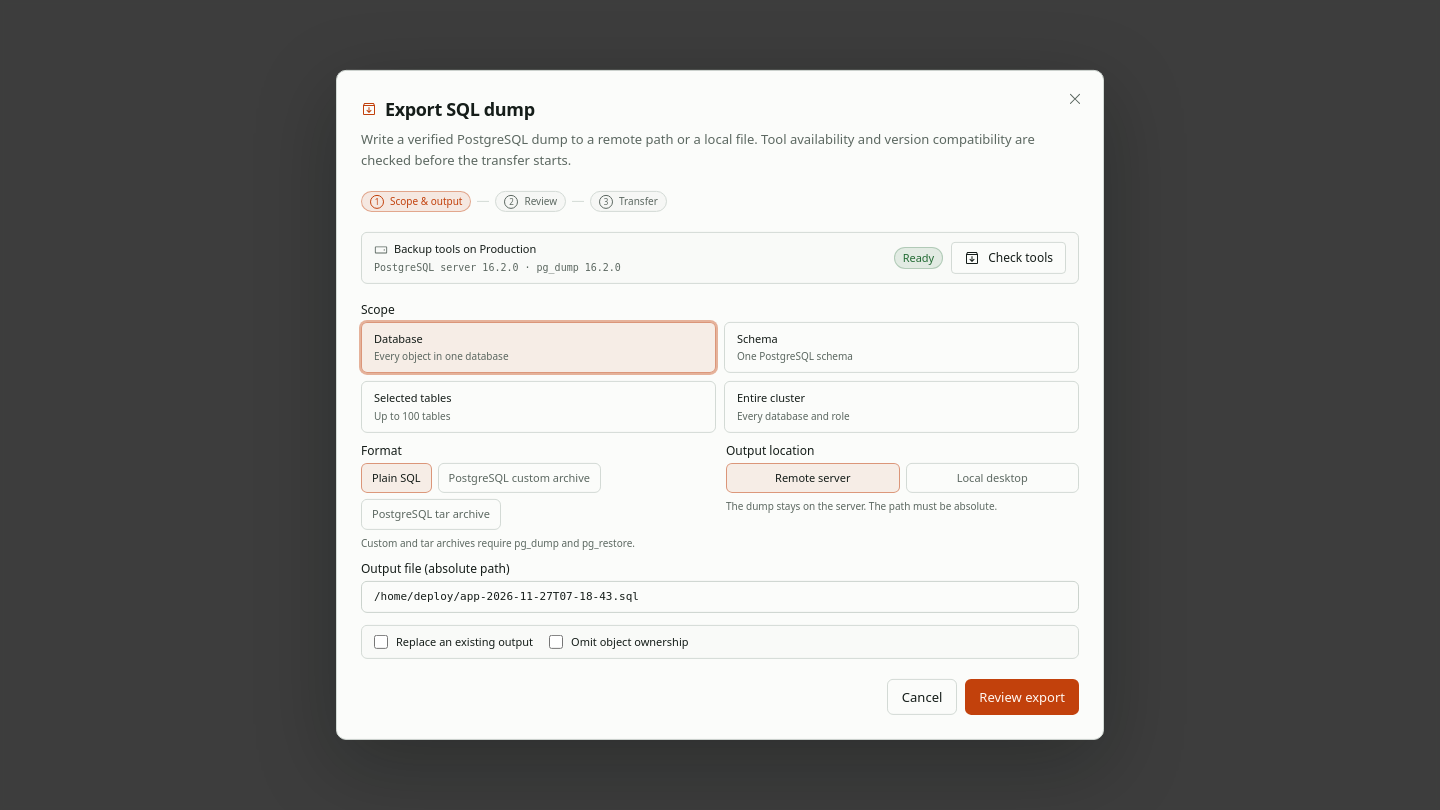
Test: DatabaseDumpTransferDialog › retries a failed dump export after the backend rejects it
The image size is (1440, 810).
Replace the text in the field labelled "Output file (absolute path)" with "/home/deploy/backups/app.sql" at (720, 597), box 361,581 -> 1079,613
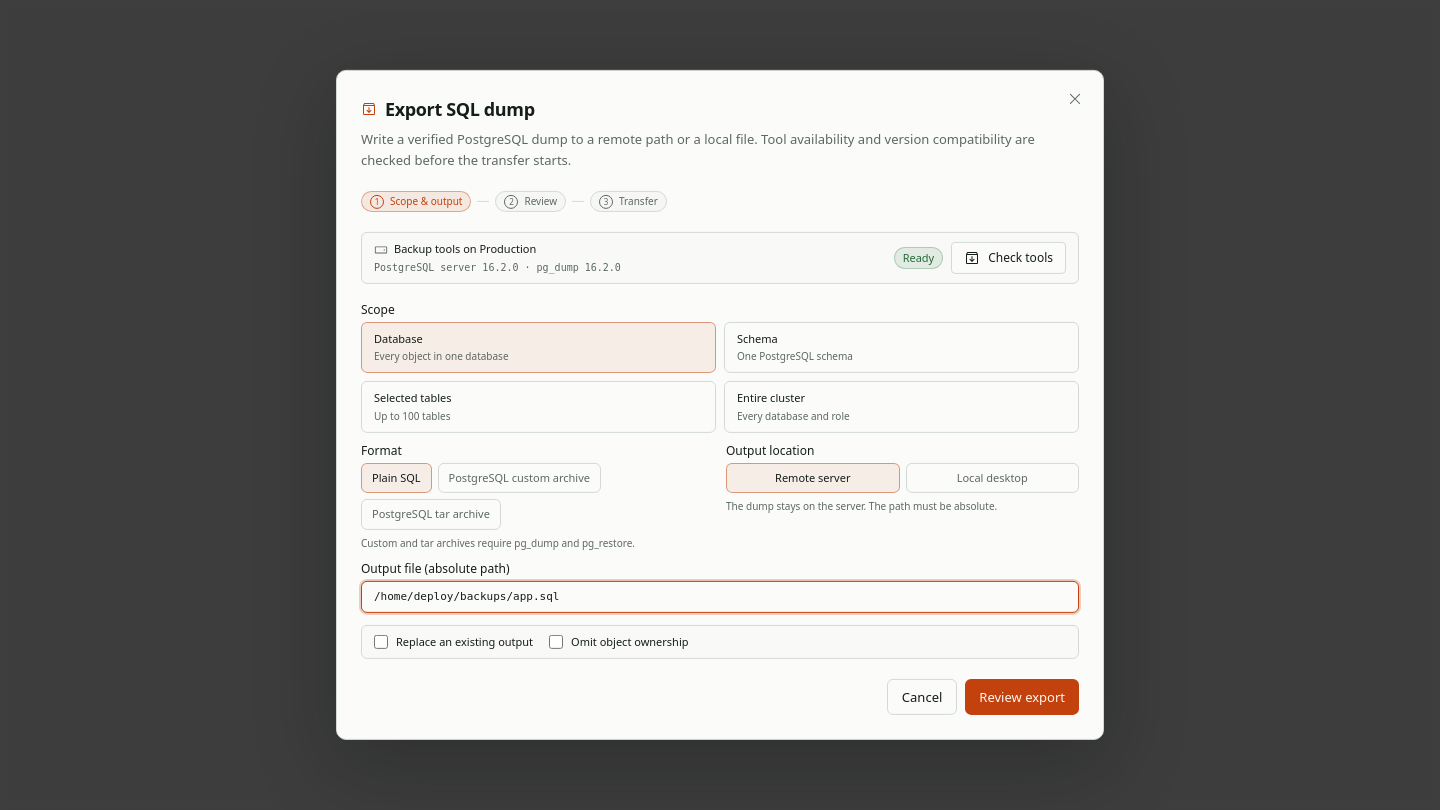
Click the button "Review export" at (1022, 697), box 965,679 -> 1079,715
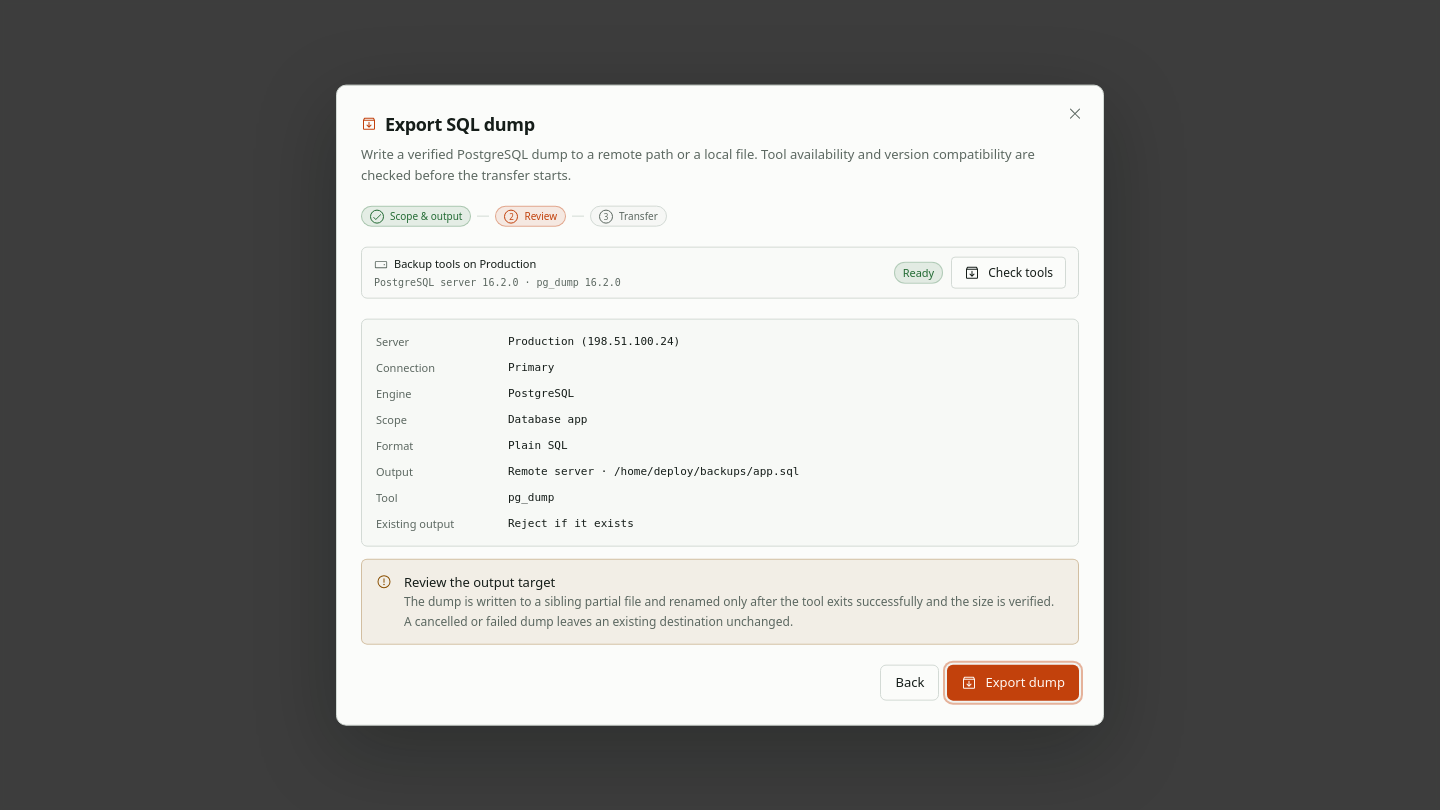
Click the button "Export dump" at (1013, 682), box 947,664 -> 1079,700
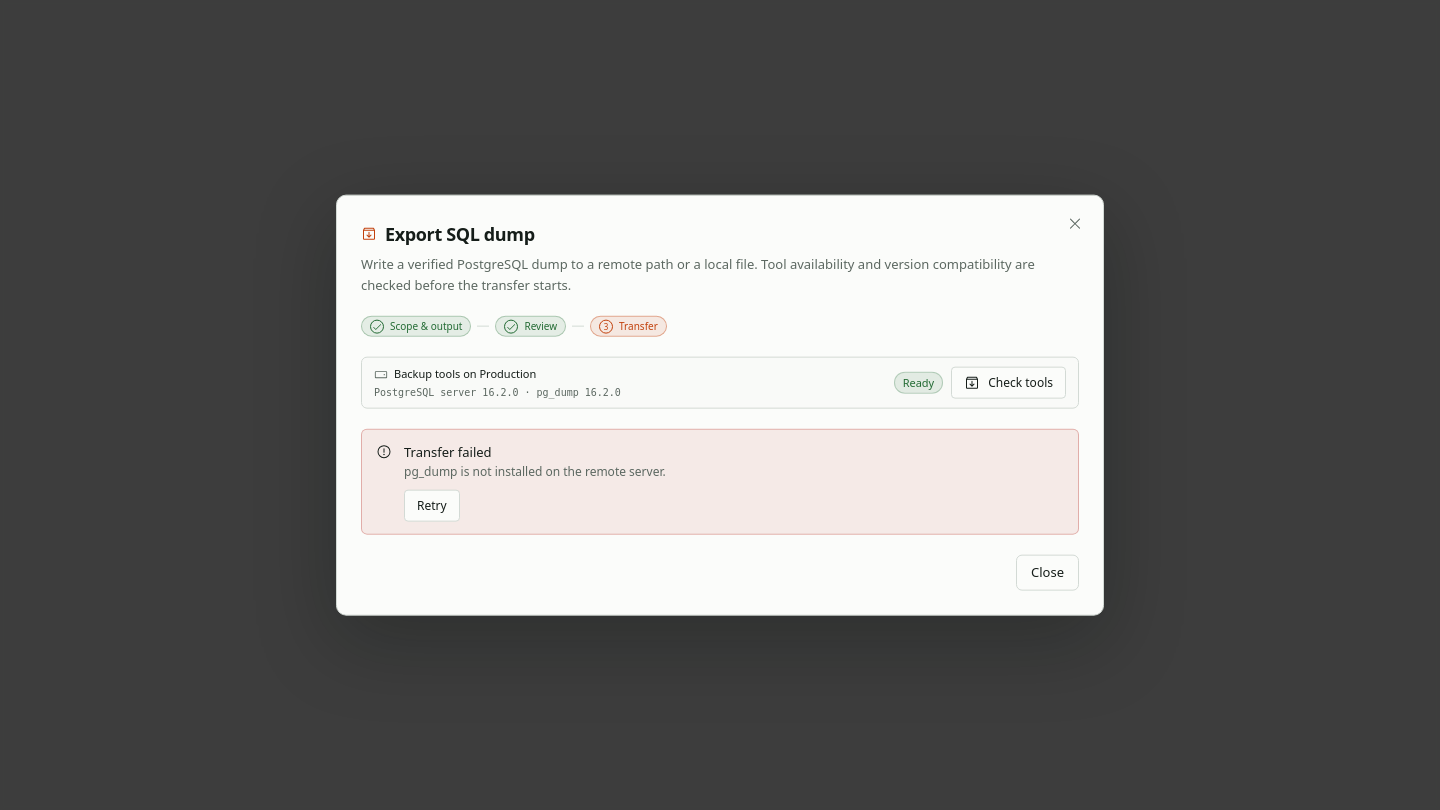
Now the text "Transfer failed" is shown, box 404,442 -> 492,460
Now the text "pg_dump is not installed on the remote server." is shown, box 404,462 -> 666,479
Click the button "Retry" at (432, 505), box 404,489 -> 460,521
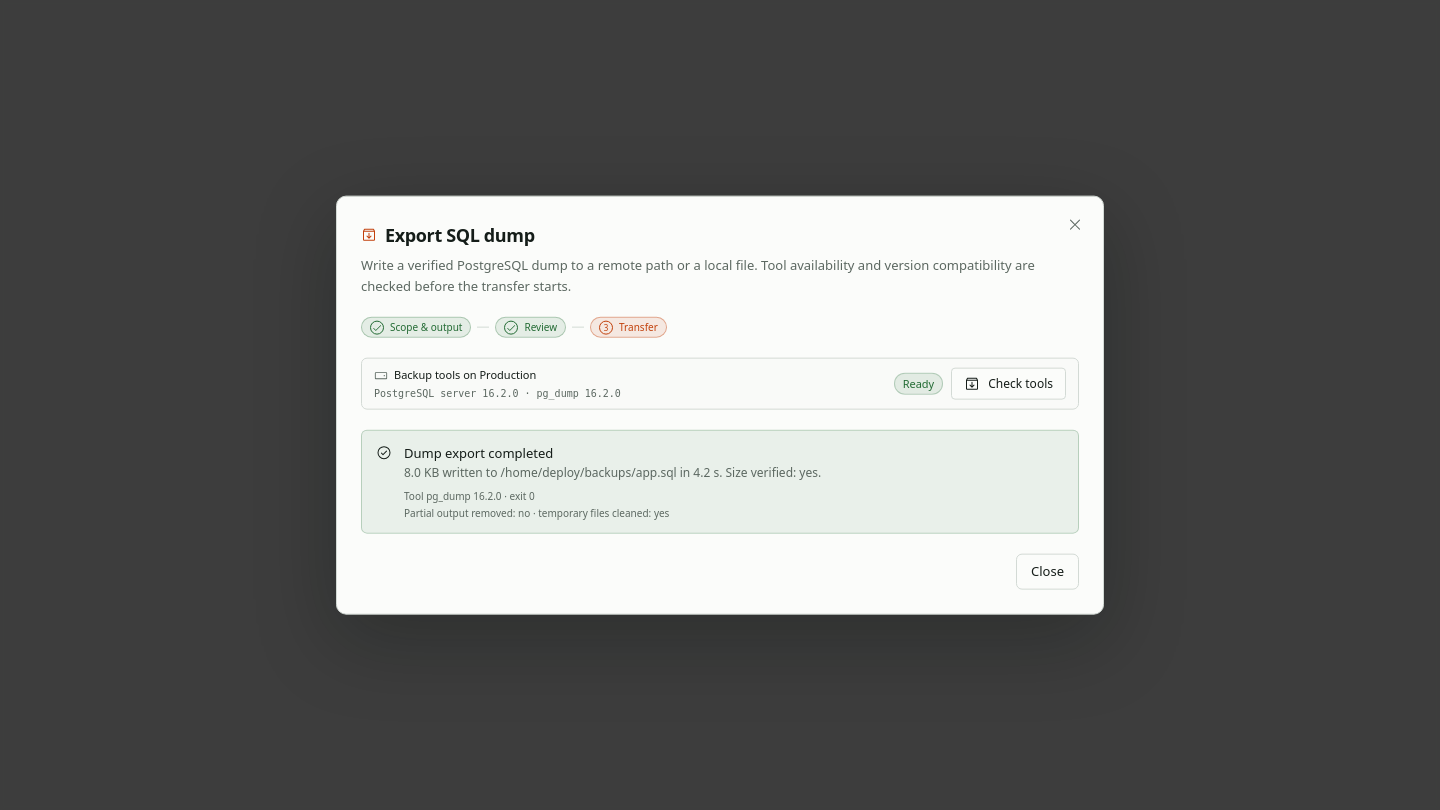
Now the text "Dump export completed" is shown, box 404,443 -> 553,461
